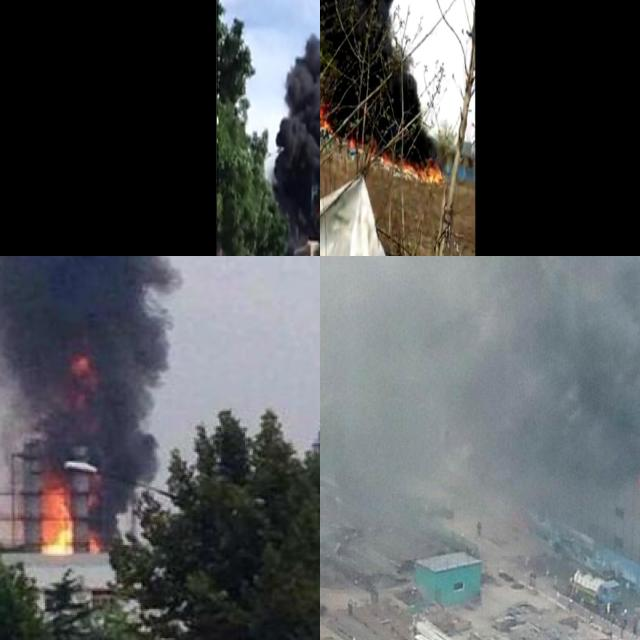fire: (320, 98, 446, 185), (32, 473, 84, 552), (320, 105, 331, 131)
smoke: (320, 256, 640, 519), (0, 256, 182, 475), (320, 0, 439, 167), (270, 32, 320, 235)
